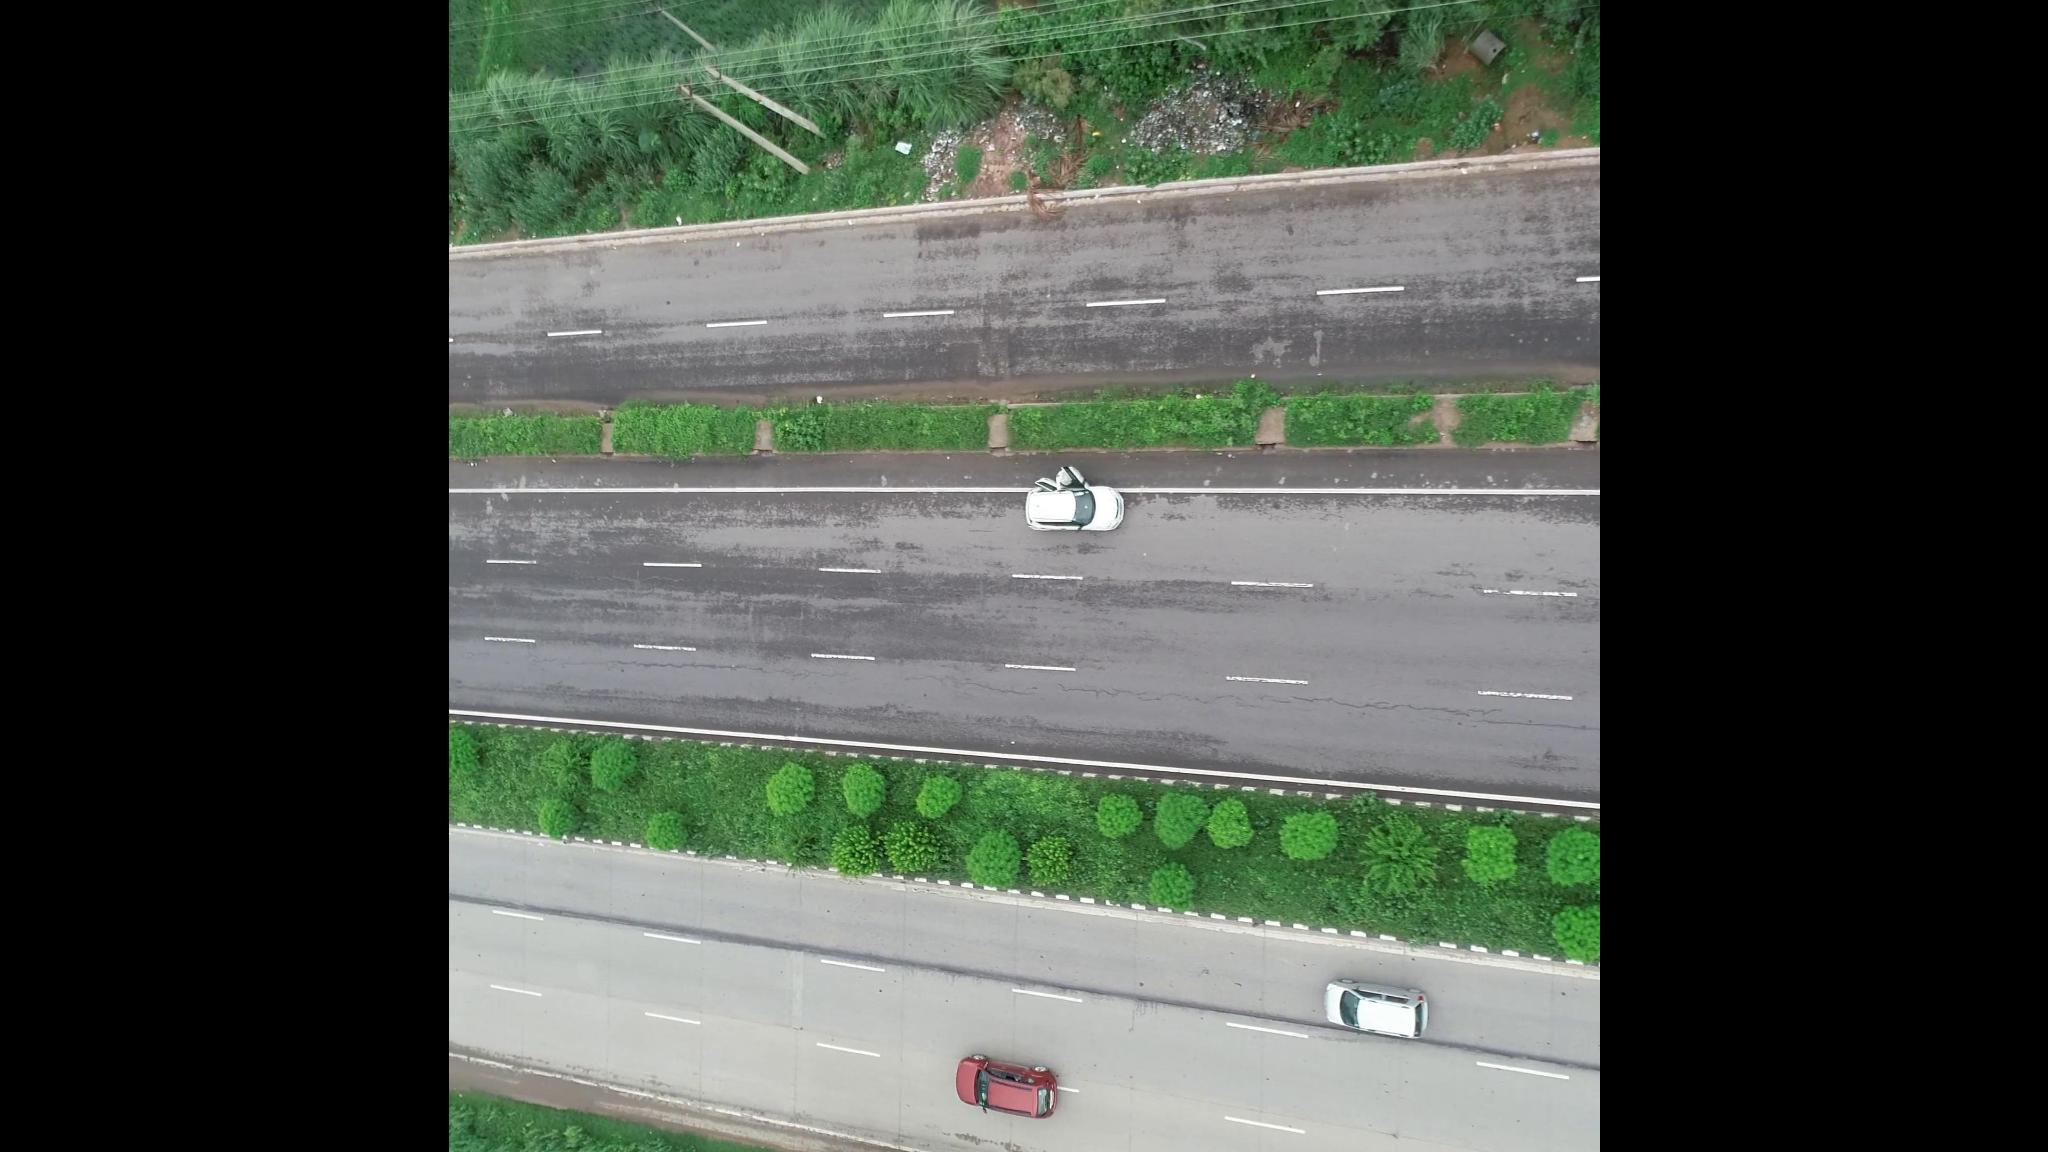Cracks: (1025, 677, 1591, 745), (520, 643, 834, 703)
